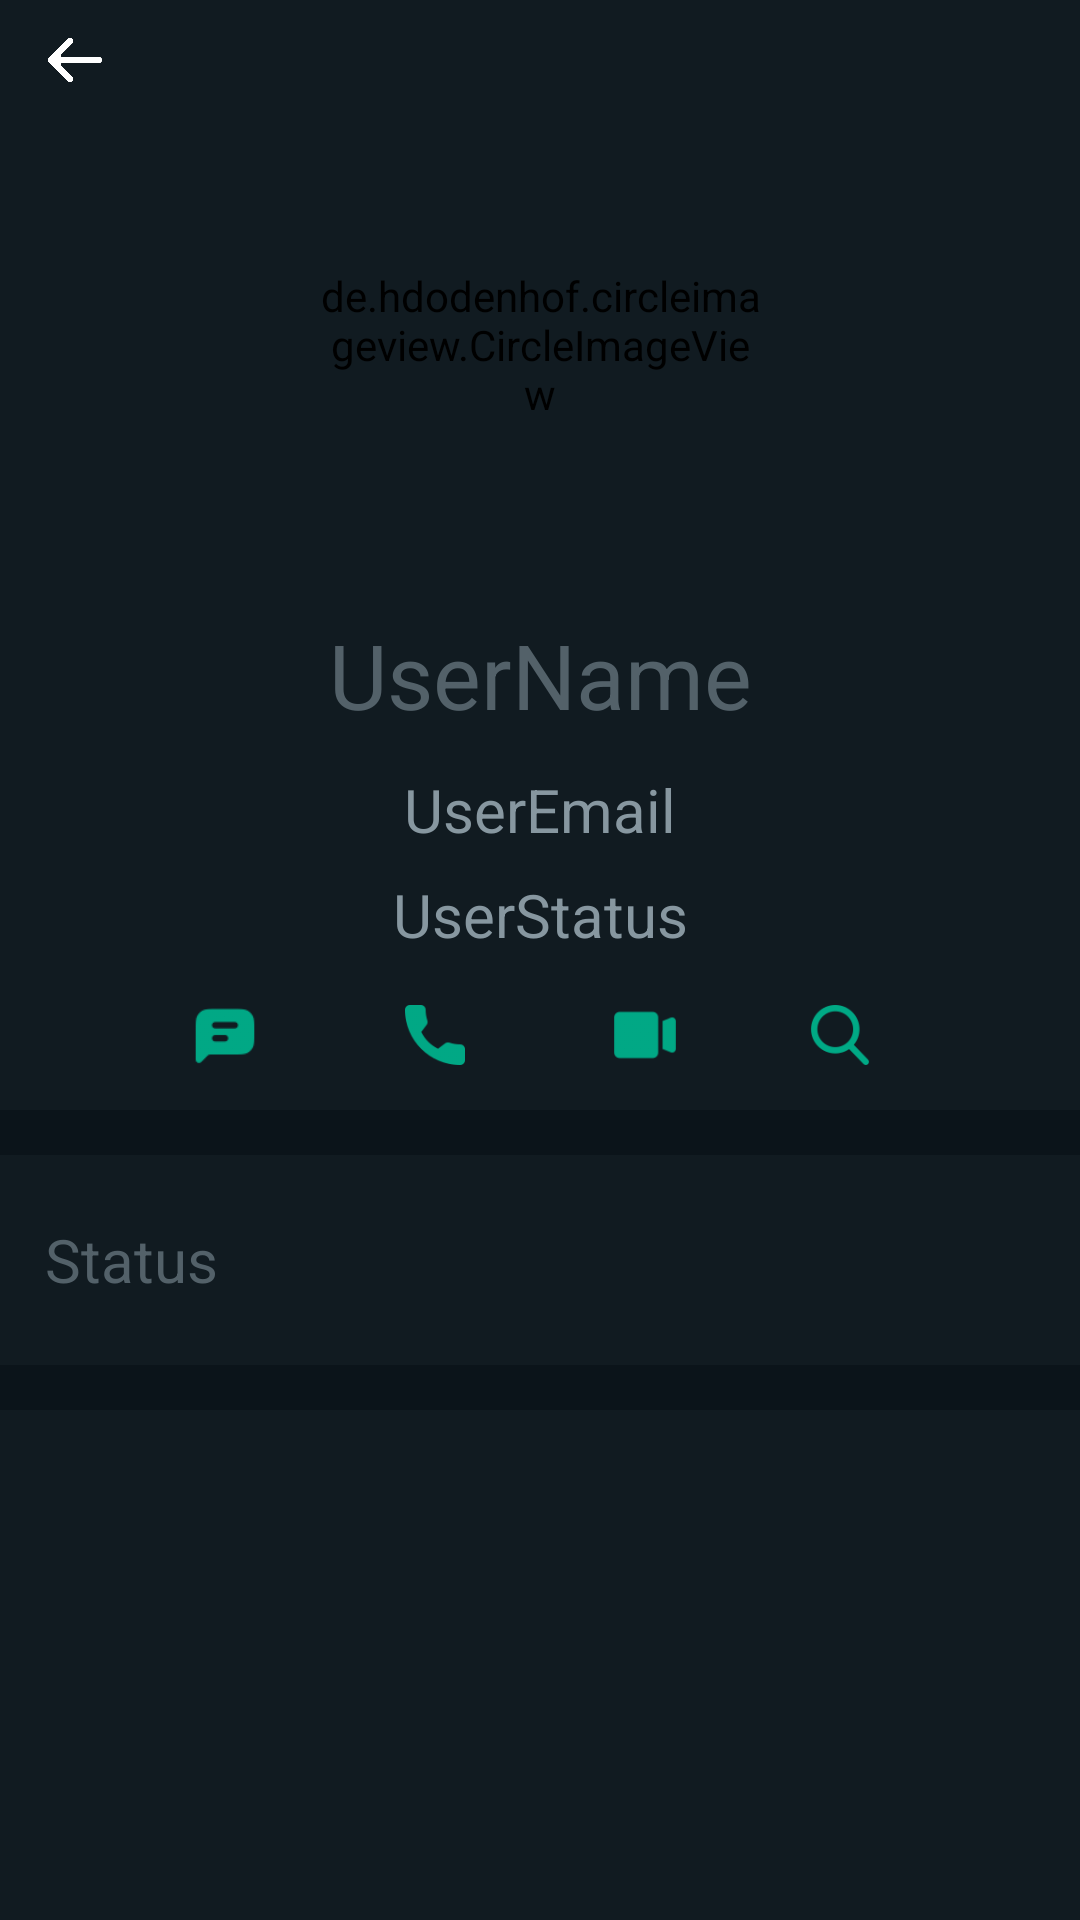

Icons on this 1080*1920 Android screen, each with its box as (x1, y1, x2, y2):
back: (48, 38, 102, 82)
call: (405, 1005, 465, 1065)
message: (195, 1008, 255, 1063)
search: (811, 1005, 869, 1065)
video call: (614, 1011, 676, 1059)
